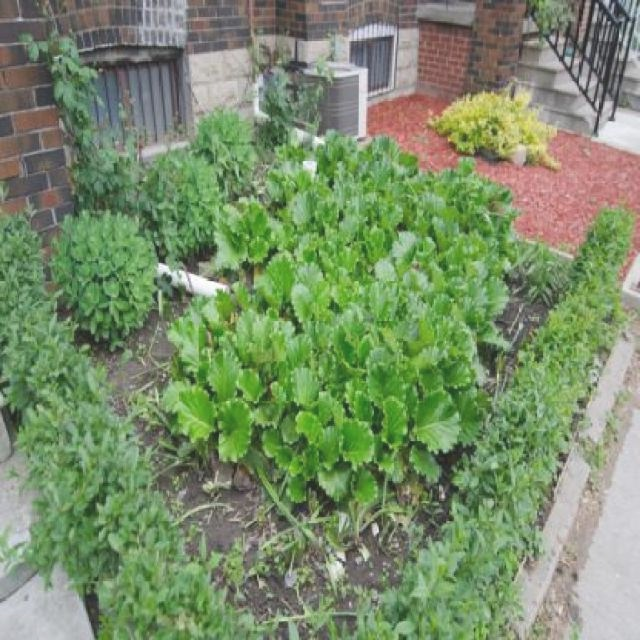stair: (512, 14, 614, 137), (588, 0, 640, 112)
